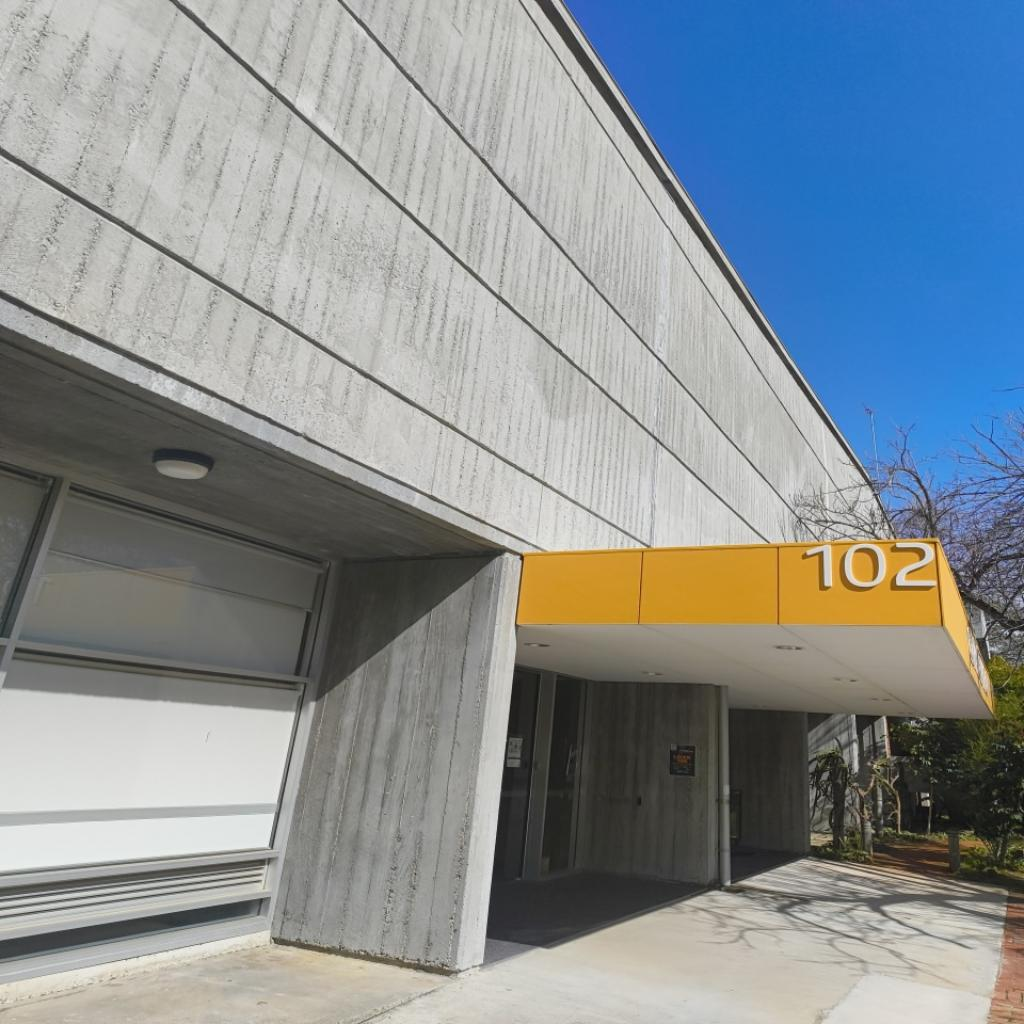BuildingCodes: (802, 539, 940, 593)
